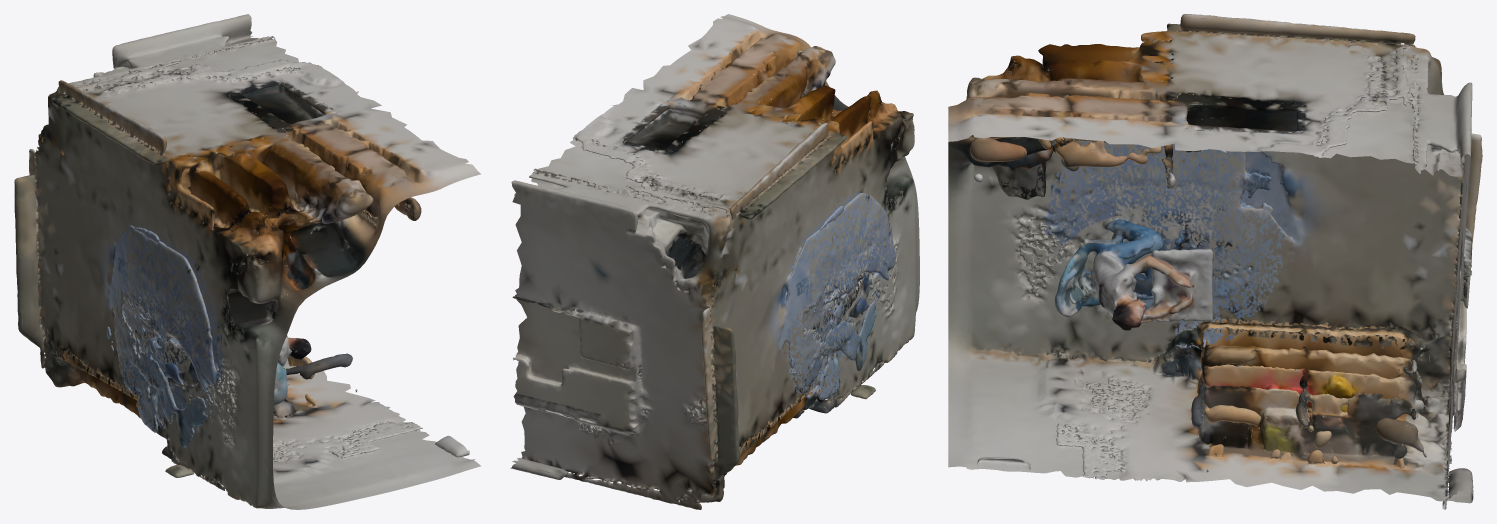
3 views of the same model, side by side, from view 1: azimuth 30°, elevation 25°; view 2: azimuth 150°, elevation 25°; view 3: azimuth 270°, elevation 25° (orthographic). The views are drawn at different scales.
Visible parts, largest first — view 1: answering_questions_89; view 2: answering_questions_89; view 3: answering_questions_89.
Boxes of the visible parts, x1,y1,x2,y2 form: answering_questions_89: (14, 14, 480, 509); answering_questions_89: (510, 14, 919, 509); answering_questions_89: (948, 14, 1482, 509).
Bounding box in the file's own units: 2.38 × 3.23 × 4.11.
Materials: 1 (1 with a texture image).
